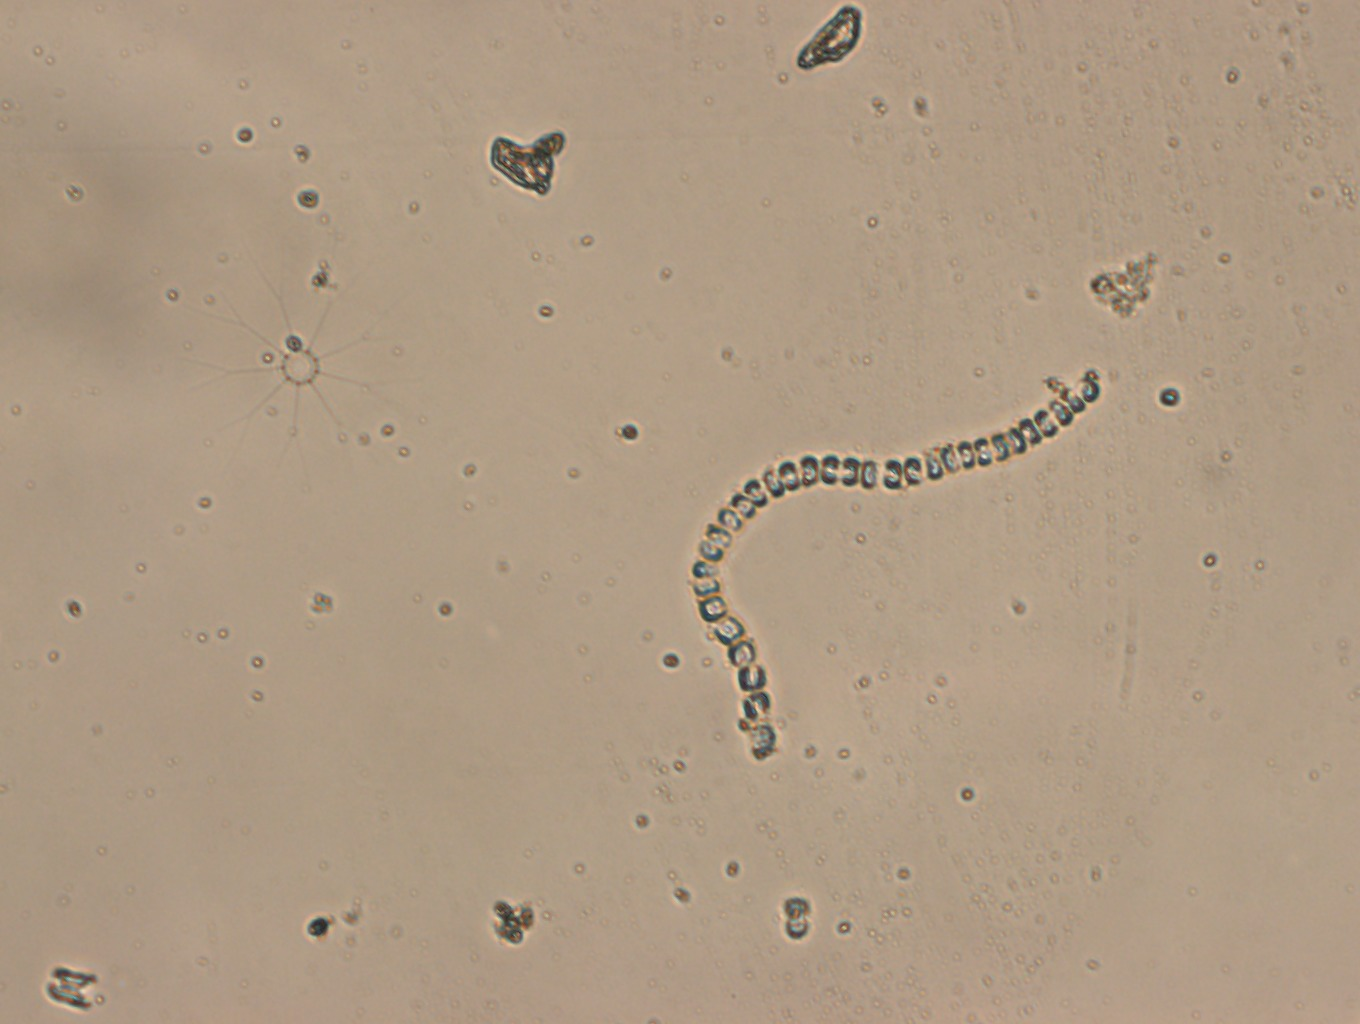bacteriastrum: (191, 236, 413, 483)
